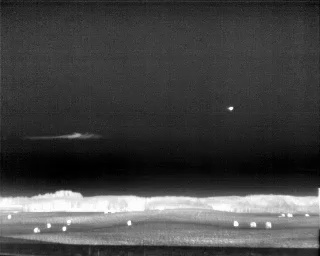BIRD: (226, 104, 236, 113)
